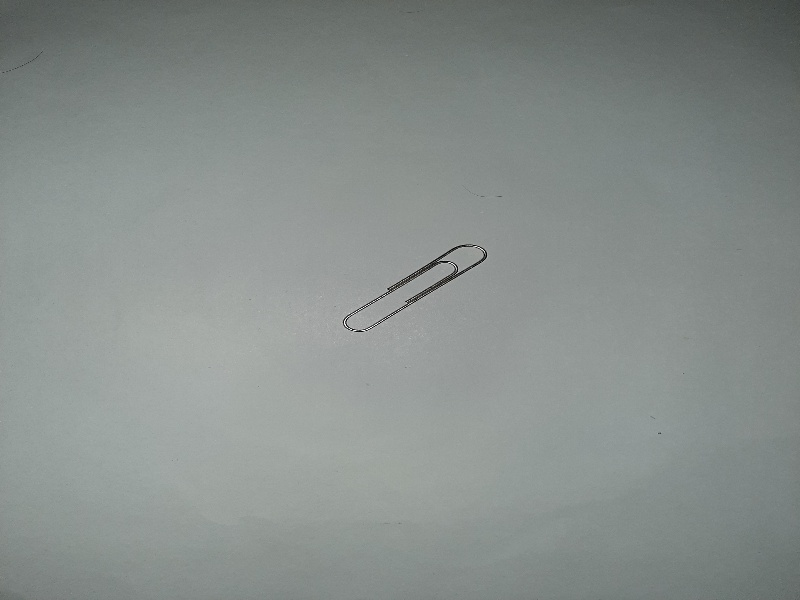Big Jumpclip: (329, 237, 491, 336)
